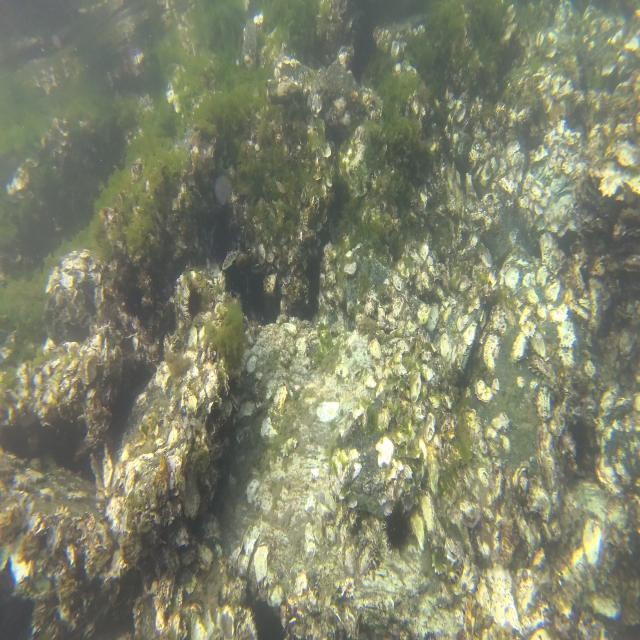echinus: (383, 504, 412, 555), (183, 287, 203, 321), (123, 287, 141, 318)
